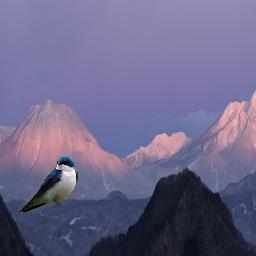Swallow: (18, 155, 78, 213)
